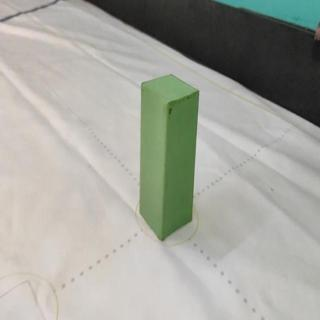greenbox: (139, 72, 201, 239)
